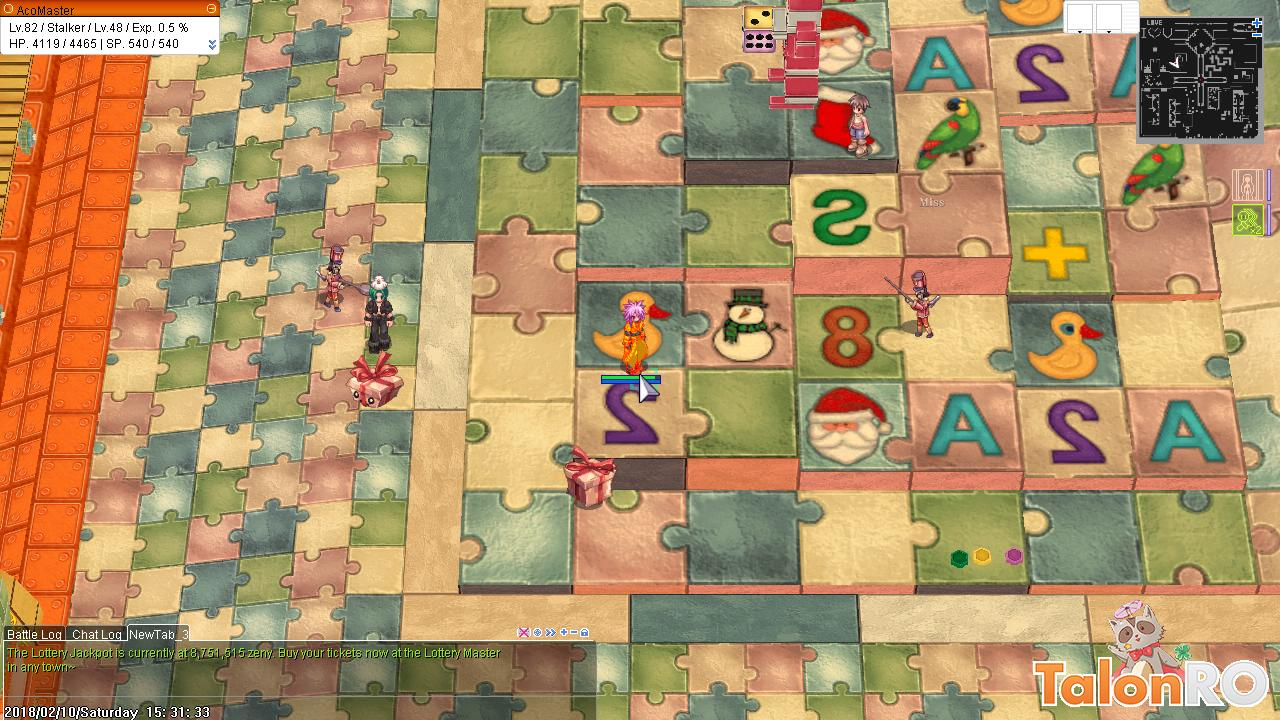mob: (880, 264, 946, 343), (316, 242, 359, 316)
myst_case: (559, 443, 617, 510), (347, 350, 404, 411)
